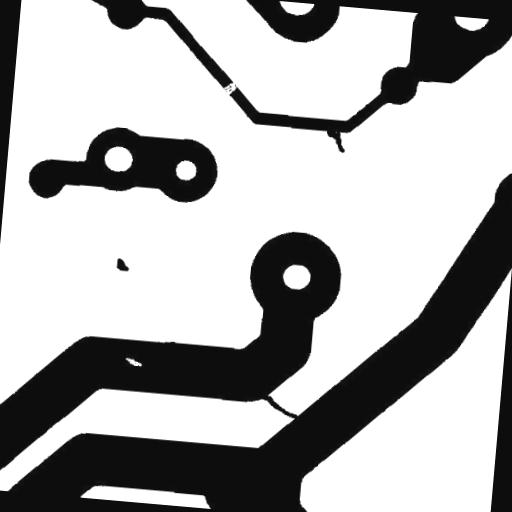copper: (108, 250, 138, 279)
open: (212, 73, 247, 104)
pin-hole: (116, 349, 150, 374)
short: (249, 384, 307, 426)
spur: (316, 120, 354, 160)
